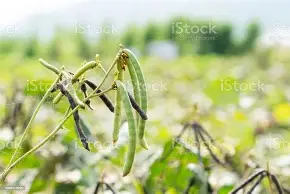crops: (4, 44, 148, 179)
